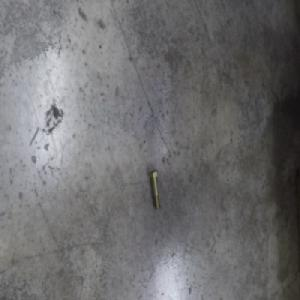Bolt: (150, 169, 163, 211)
